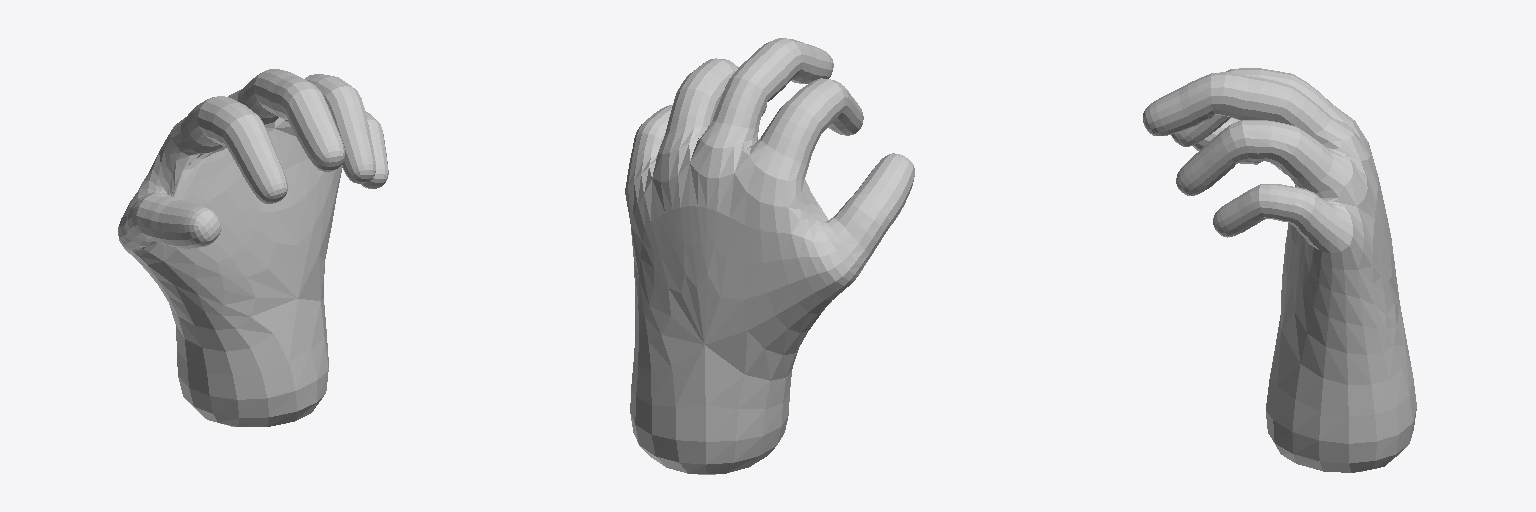
File: handanimatsion38.obj
3 renders of one model, left to right at view 1: azimuth 30°, elevation 25°; view 2: azimuth 150°, elevation 25°; view 3: azimuth 270°, elevation 25°, orthographic.
Visible parts, largest first — view 1: Cube; view 2: Cube; view 3: Cube.
Part boxes in pixels (x1,y1,x2,y2): Cube: (118,69,388,426); Cube: (625,38,914,474); Cube: (1143,68,1416,472).
Size of the model in its own units: 3.24 by 4.89 by 3.2.